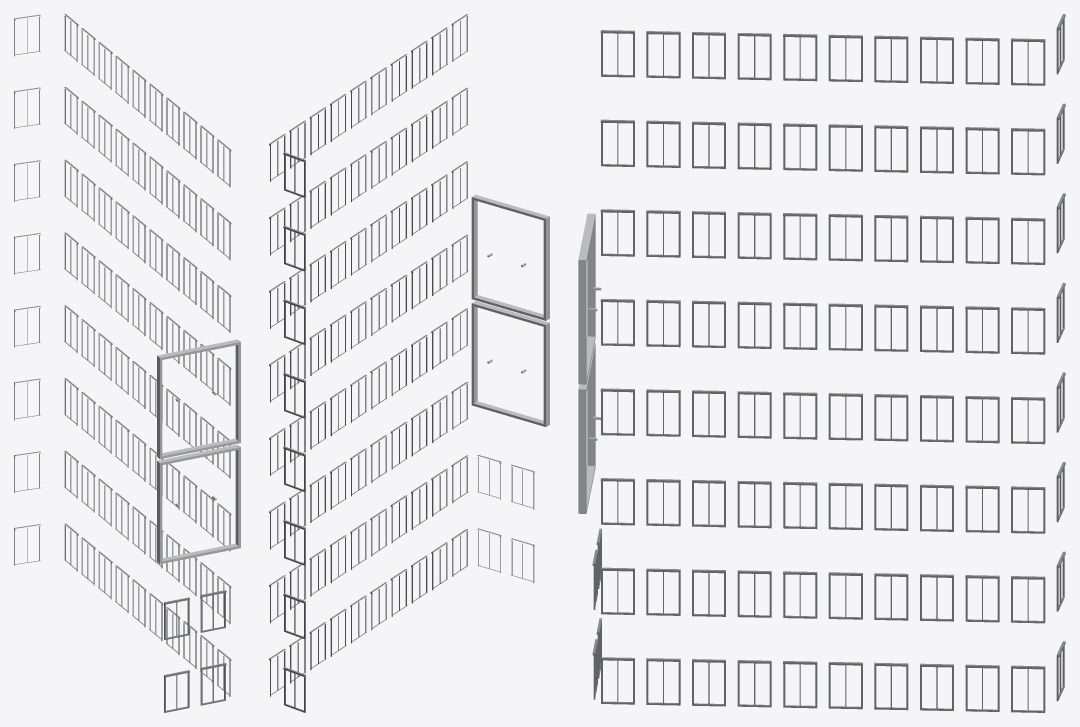
The model's file is d12-eiraku-window-cassette-frames.glb.
The picture shows the model from 3 angles, left to right: view 1: azimuth 30°, elevation 25°; view 2: azimuth 150°, elevation 25°; view 3: azimuth 270°, elevation 25°; orthographic projection. The views are drawn at different scales.
Visible parts, largest first — view 1: INFERRED_cassette_frames.001; view 2: INFERRED_cassette_frames.001; view 3: INFERRED_cassette_frames.001.
Boxes of the visible parts, <box> form: INFERRED_cassette_frames.001: <box>14,14,240,712</box>; INFERRED_cassette_frames.001: <box>269,14,549,712</box>; INFERRED_cassette_frames.001: <box>578,14,1065,712</box>.
Bounding box in the file's own units: 4.76 × 27.05 × 17.75.
Materials: 1 (1 with a texture image).
